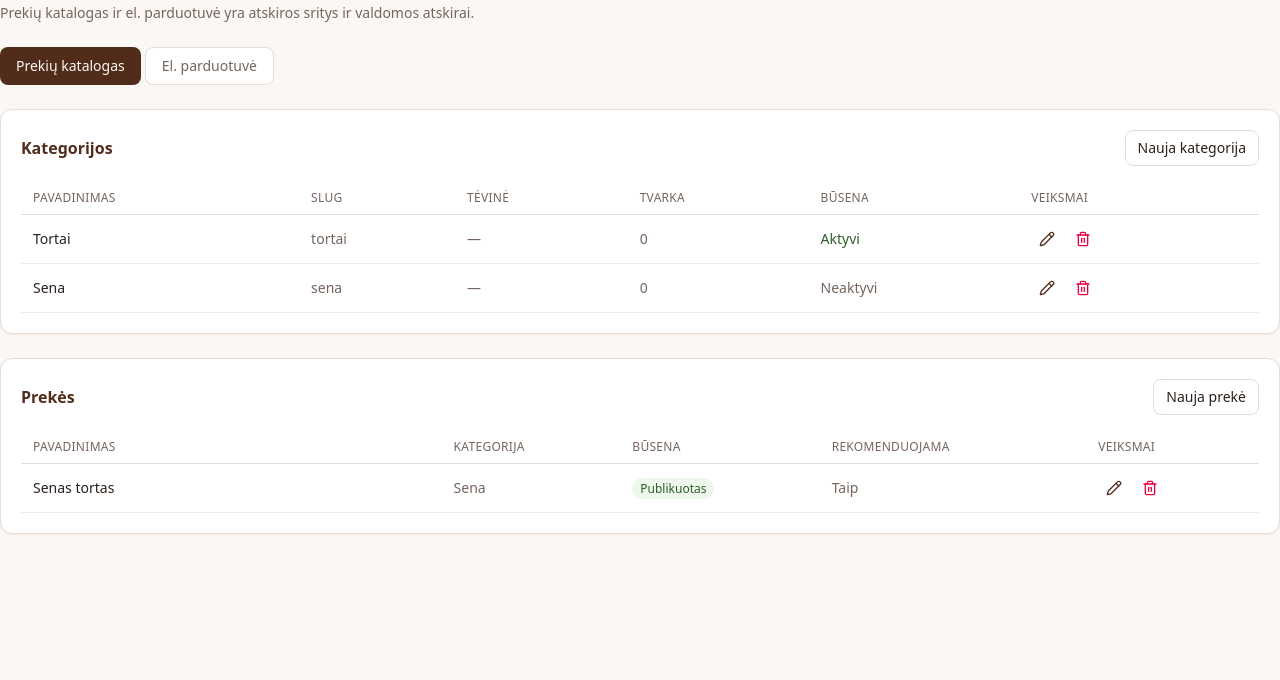
ProductsAdmin › offers only active categories for new products but keeps an inactive current category when editing
Expected: the element with test id "catalog-products-table" is shown, [21,431,1259,513]
// New product: the inactive category is not selectable.
Click the button "Nauja prekė". click: (1206,397)
box: [1153,379,1259,415]
(page scrolled)
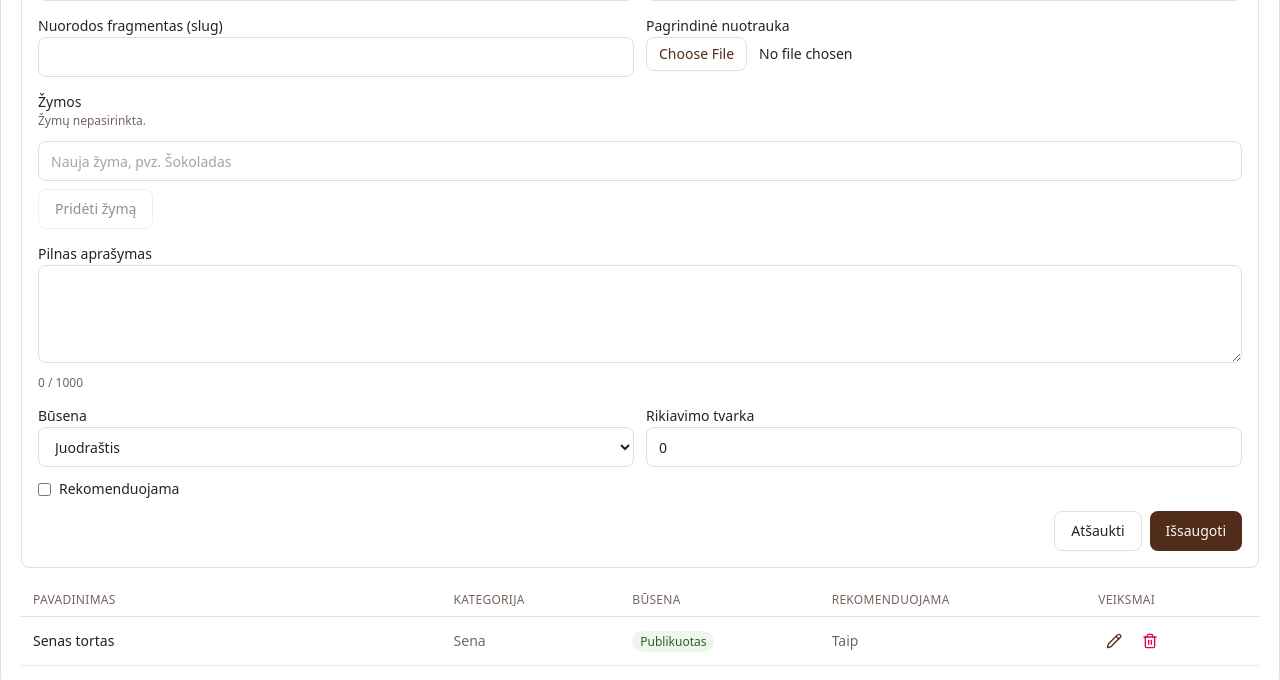
Click the button "Atšaukti". click: (1098,531)
box: [1054,511,1142,551]
(page scrolled)
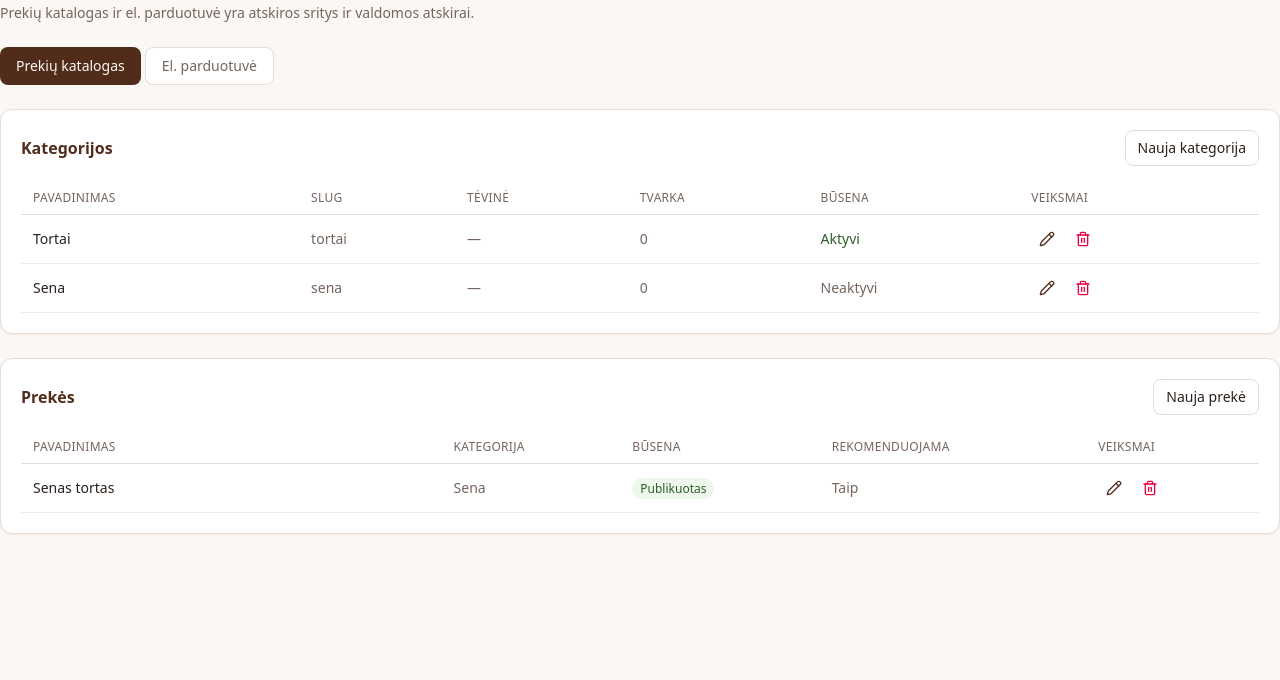
// Editing keeps the (now inactive) current category, clearly labelled.
Click the button named "Redaguoti prekę Senas tortas". click: (1114,488)
box: [1098,472,1130,504]
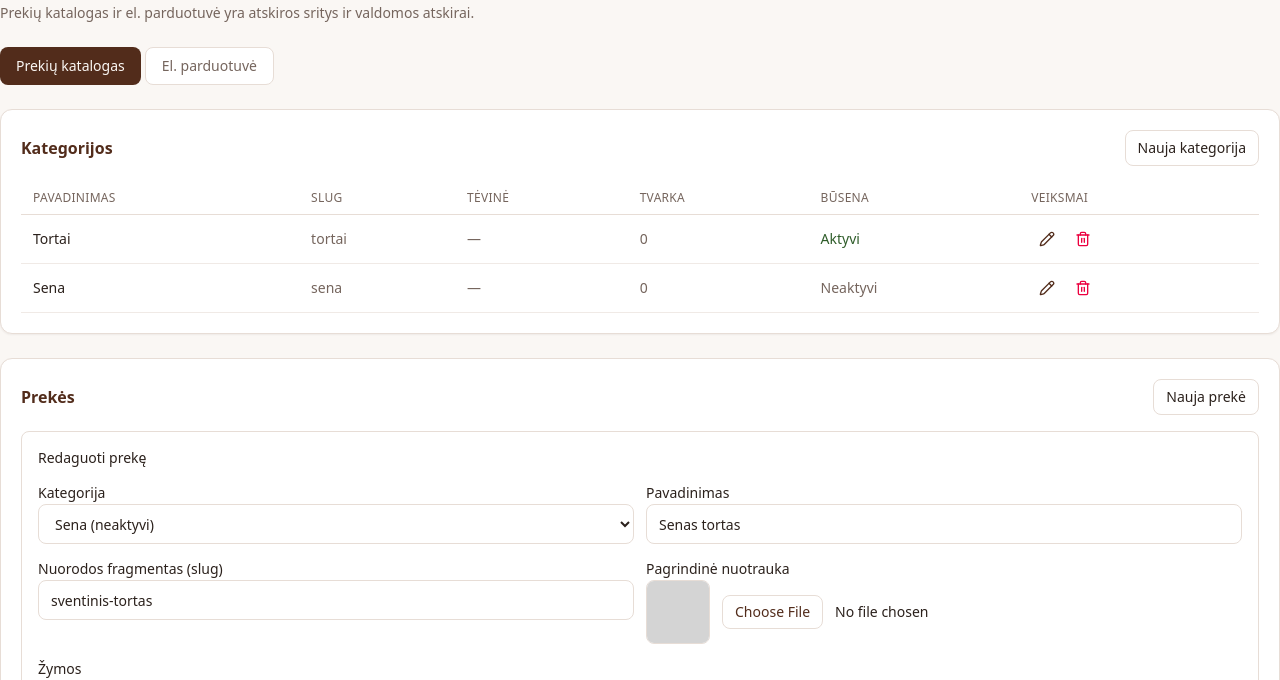
Now the dropdown labelled "Kategorija" shows "Sena (neaktyvi)", box [38,504,634,544]
